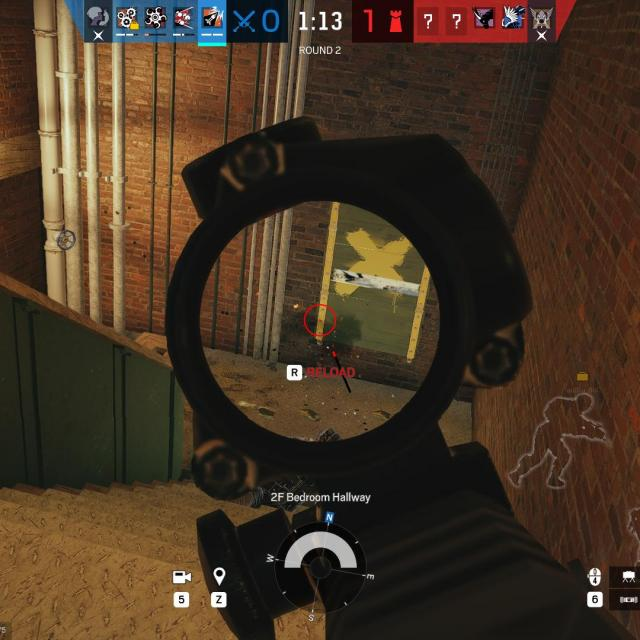Character: (216, 426, 348, 511)
Friend_label: (567, 370, 599, 394)
